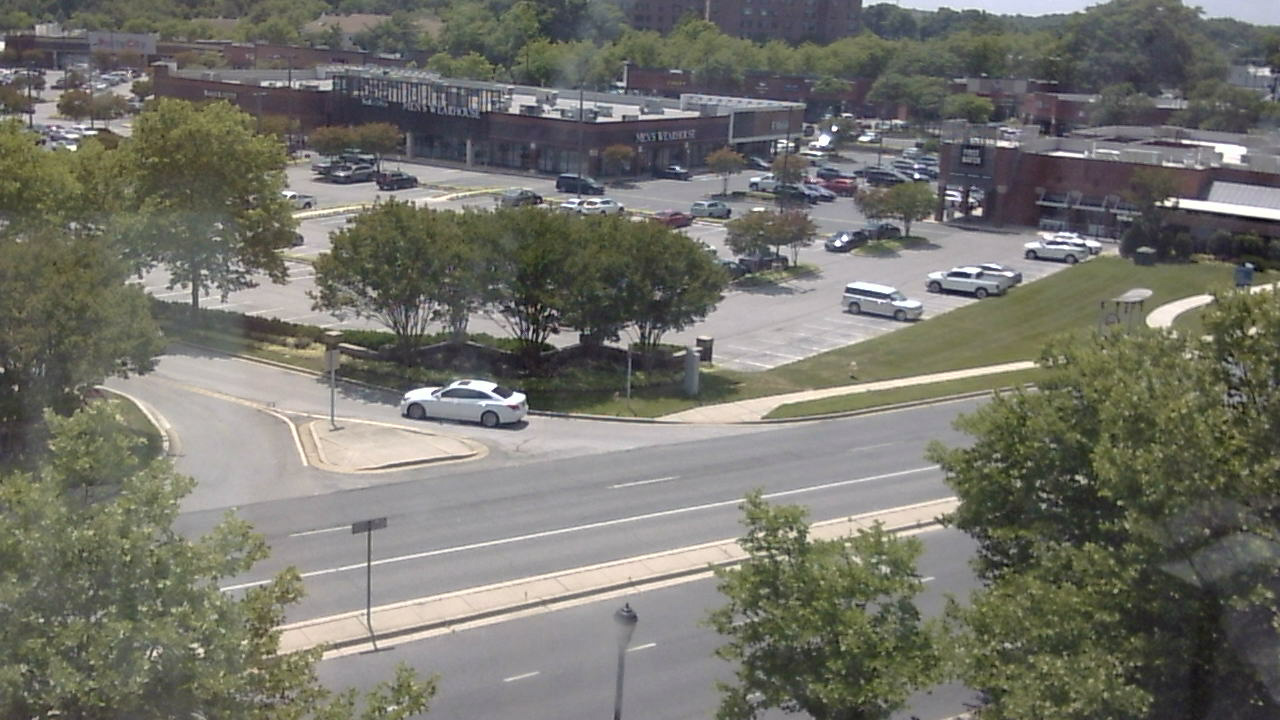Car: (389, 377, 543, 444), (841, 282, 931, 337)
